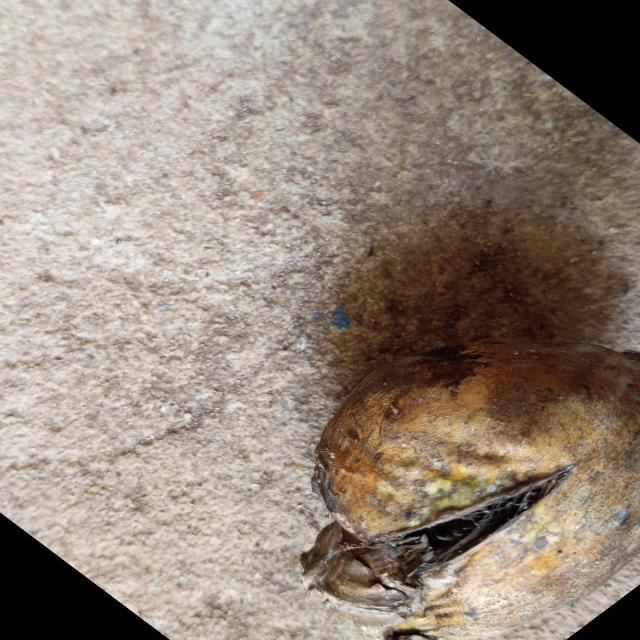damaged: (301, 339, 640, 640)
